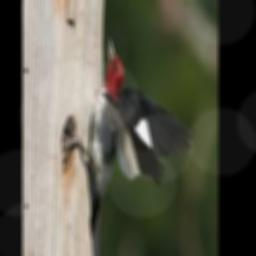Woodpecker: (63, 37, 191, 236)
